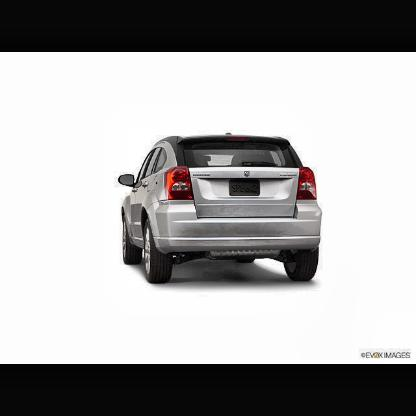Dodge Caliber Wagon 2012: (118, 129, 326, 288)
